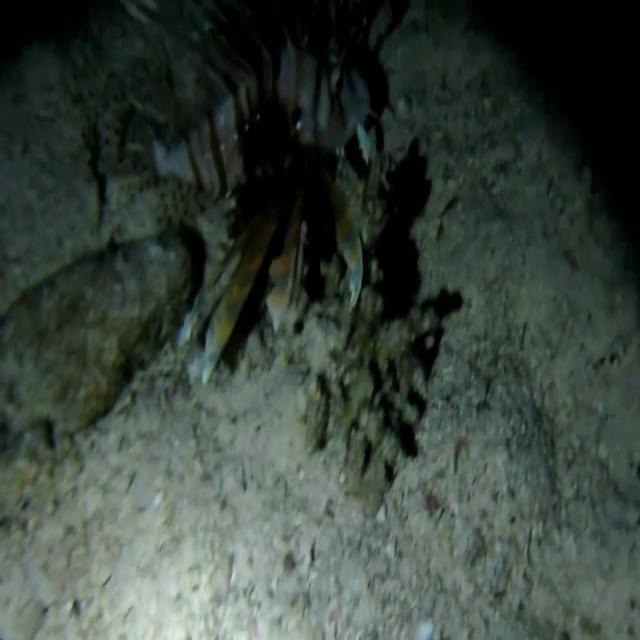Aslan Baligi: (108, 0, 412, 382)
